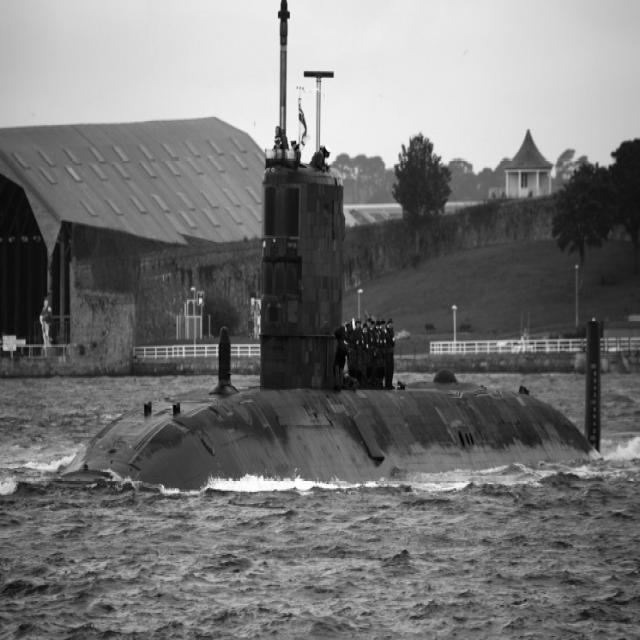submarine: (54, 171, 627, 491)
